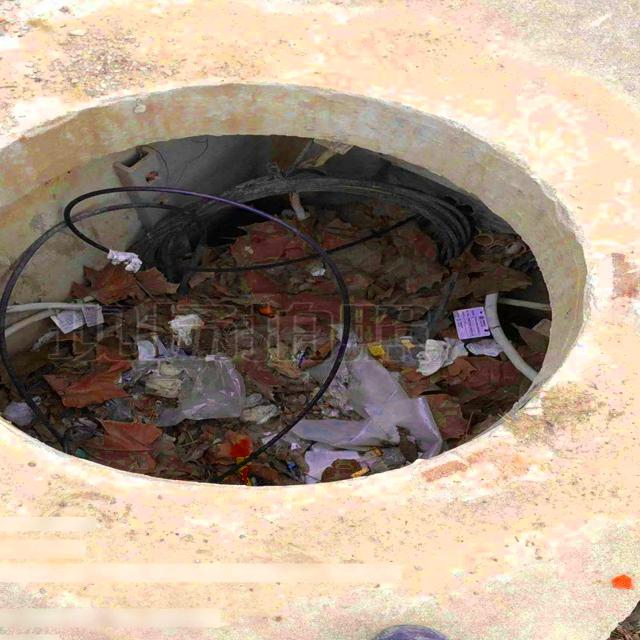lose: (0, 75, 586, 487)
